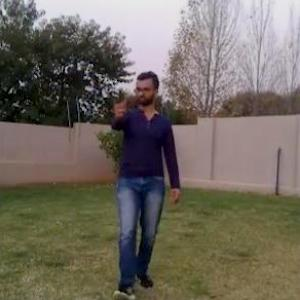takeoff-hand: (111, 88, 132, 118)
